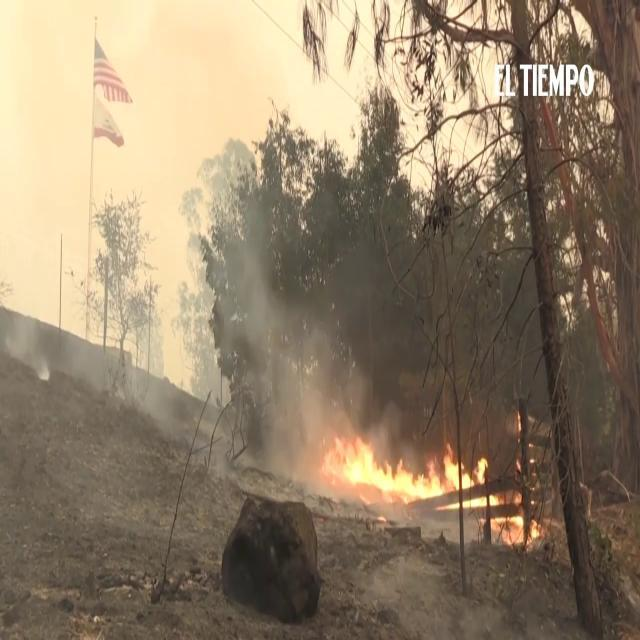Fire: (328, 442, 484, 490)
Smoke: (266, 330, 312, 489)
